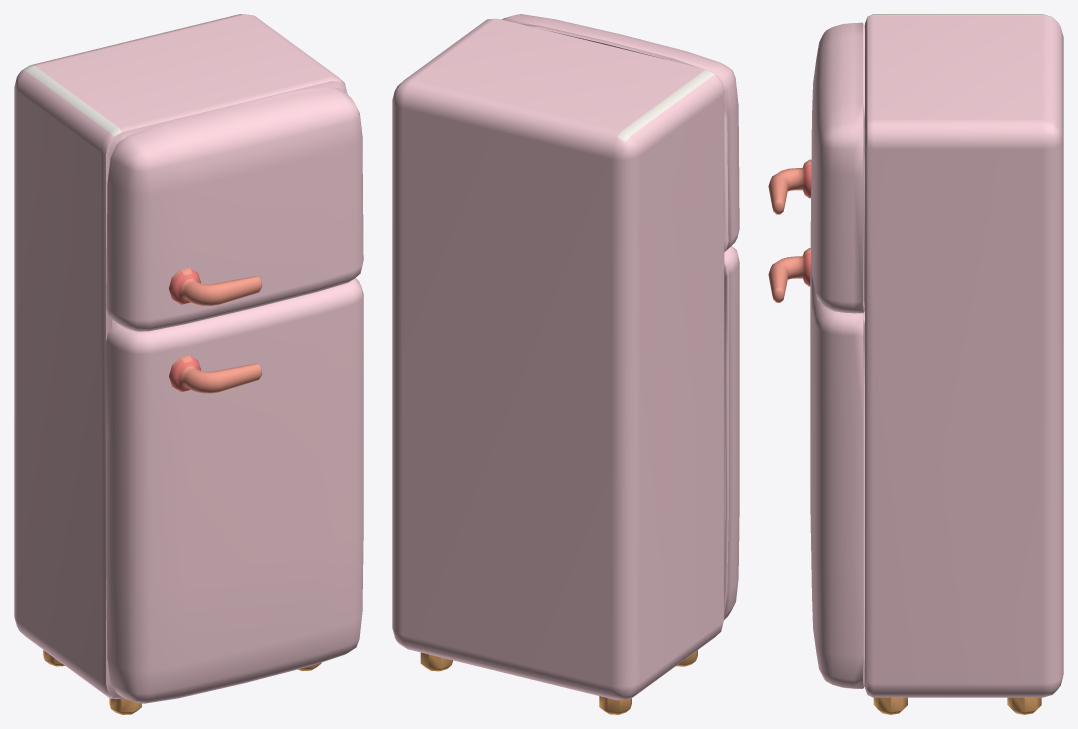
File: geladeira_retro_pacote.glb
The picture shows the model from 3 angles, left to right: view 1: azimuth 30°, elevation 25°; view 2: azimuth 150°, elevation 25°; view 3: azimuth 270°, elevation 25°; orthographic projection.
Visible parts, largest first — view 1: porta_geladeira, geladeira_retro_pacote, porta_congelador; view 2: geladeira_retro_pacote, porta_geladeira, porta_congelador; view 3: geladeira_retro_pacote, porta_geladeira, porta_congelador.
Boxes of the visible parts, x1,y1,x2,y2 form: porta_geladeira: (106,278,363,703); geladeira_retro_pacote: (14,14,347,714); porta_congelador: (106,86,363,331); geladeira_retro_pacote: (392,18,724,714); porta_geladeira: (724,246,739,619); porta_congelador: (502,14,739,251); geladeira_retro_pacote: (865,14,1063,714); porta_geladeira: (768,248,864,688); porta_congelador: (768,22,864,313).
Size of the model in its own units: 0.7616 by 1.75 by 0.7823.
2 materials, 1 textured.
